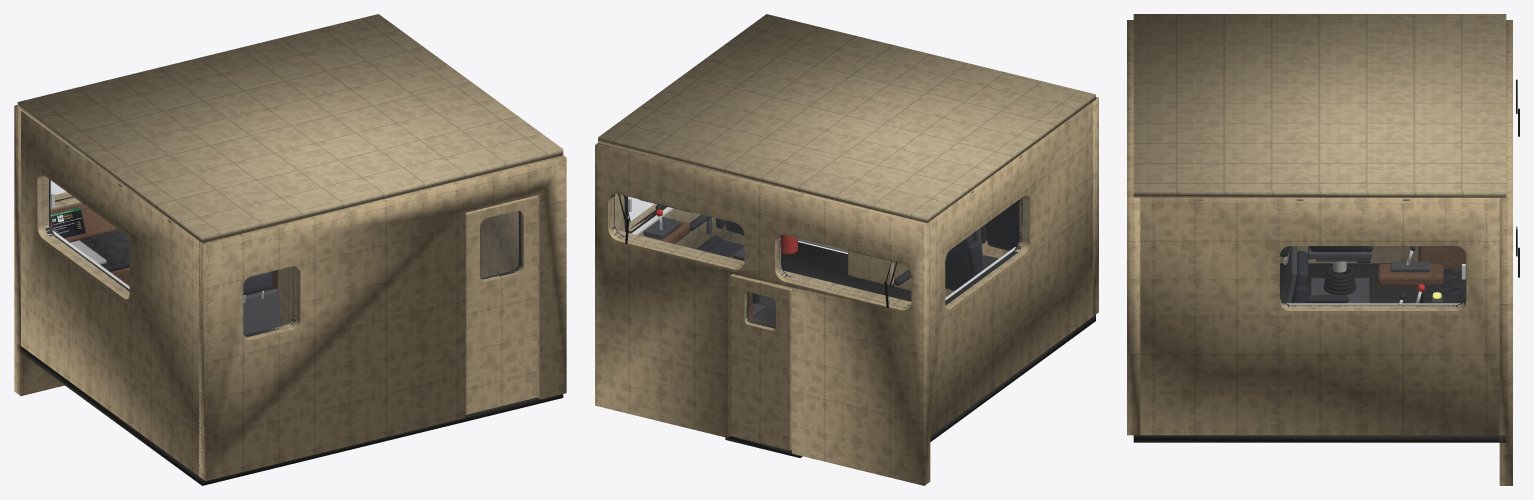
Rendered from es44ac_desktop.glb.
3 renders of one model, left to right at view 1: azimuth 30°, elevation 25°; view 2: azimuth 150°, elevation 25°; view 3: azimuth 270°, elevation 25°, orthographic. The views are drawn at different scales.
Visible parts, largest first — view 1: back_wall, ceiling, side_wall-1, rdoor, sideglass-1, floor, rwin_glass, front_wall, rdoor_glass, side_wall1, cseat2_backshell, cdesk_top (+3 smaller); view 2: front_wall, ceiling, side_wall-1, door_leaf, windshield0, windshield1, sideglass-1, floor, side_wall1, sill_shelf, back_wall, cseat2_back (+4 smaller); view 3: side_wall1, ceiling, sideglass1, front_wall, floor, back_wall, dt_wing_l, dt_top, side_wall-1, cdesk_body, cseat_plate, eseat_backshell (+3 smaller).
Part boxes in pixels (bbox=[...]): back_wall: bbox=[199, 155, 566, 480]; ceiling: bbox=[17, 14, 563, 242]; side_wall-1: bbox=[21, 111, 202, 476]; rdoor: bbox=[465, 195, 537, 414]; sideglass-1: bbox=[41, 175, 128, 296]; floor: bbox=[17, 344, 563, 485]; rwin_glass: bbox=[244, 266, 296, 336]; front_wall: bbox=[14, 105, 70, 395]; rdoor_glass: bbox=[480, 211, 521, 279]; side_wall1: bbox=[480, 210, 518, 278]; cseat2_backshell: bbox=[243, 288, 281, 334]; cdesk_top: bbox=[80, 229, 129, 271]; front_wall: bbox=[595, 143, 930, 485]; ceiling: bbox=[598, 14, 1095, 222]; side_wall-1: bbox=[930, 102, 1092, 435]; door_leaf: bbox=[730, 274, 791, 450]; windshield0: bbox=[778, 235, 910, 307]; windshield1: bbox=[611, 194, 743, 266]; sideglass-1: bbox=[946, 196, 1026, 307]; floor: bbox=[753, 242, 1095, 441]; side_wall1: bbox=[614, 194, 744, 249]; sill_shelf: bbox=[617, 230, 911, 306]; back_wall: bbox=[1002, 97, 1098, 316]; cseat2_back: bbox=[985, 201, 1017, 250]; side_wall1: bbox=[1140, 197, 1504, 435]; ceiling: bbox=[1133, 14, 1506, 197]; sideglass1: bbox=[1280, 246, 1465, 308]; front_wall: bbox=[1499, 20, 1512, 485]; floor: bbox=[1133, 263, 1506, 442]; back_wall: bbox=[1127, 20, 1140, 435]; dt_wing_l: bbox=[1377, 264, 1443, 286]; dt_top: bbox=[1422, 269, 1466, 303]; side_wall-1: bbox=[1280, 246, 1418, 263]; cdesk_body: bbox=[1418, 246, 1466, 303]; cseat_plate: bbox=[1310, 278, 1369, 303]; eseat_backshell: bbox=[1281, 246, 1297, 303].
Bounding box in the file's own units: 3.16 × 2.49 × 2.95.
Materials: 25 (13 with a texture image).
